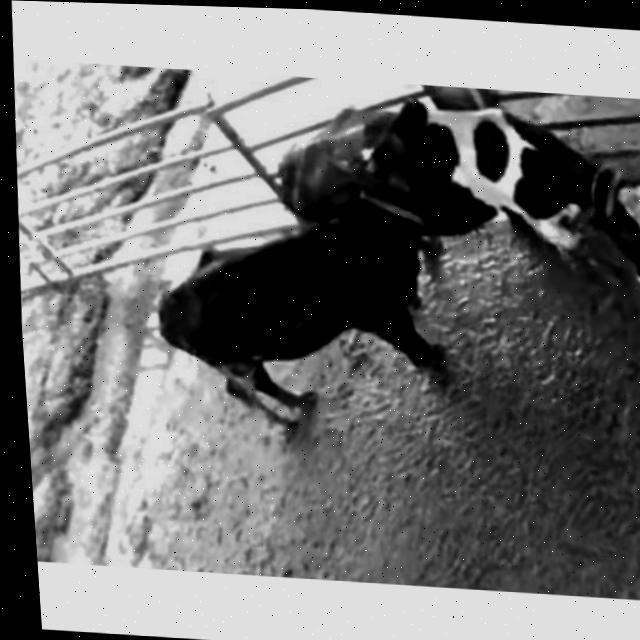propping: (321, 86, 463, 257)
